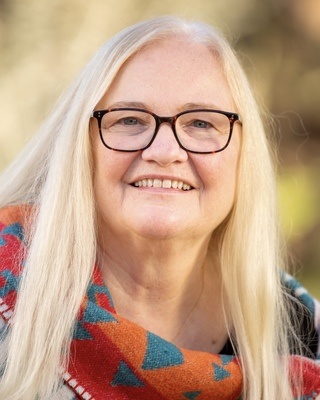bare: (88, 134, 239, 239)
